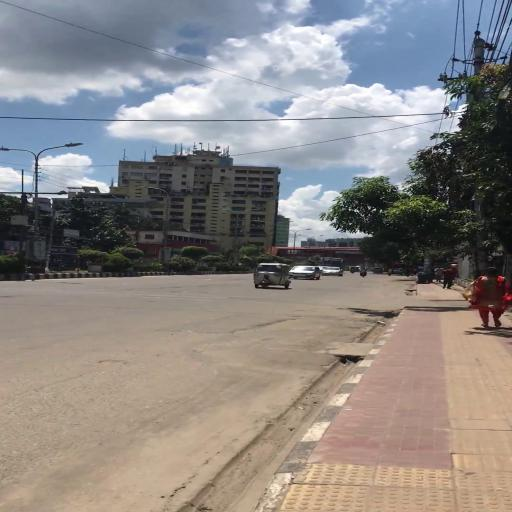bus: (320, 257, 345, 268)
car: (289, 266, 322, 281), (322, 267, 344, 277)
motorbike: (359, 267, 369, 278)
three wheelers (CNG): (253, 262, 292, 290)
